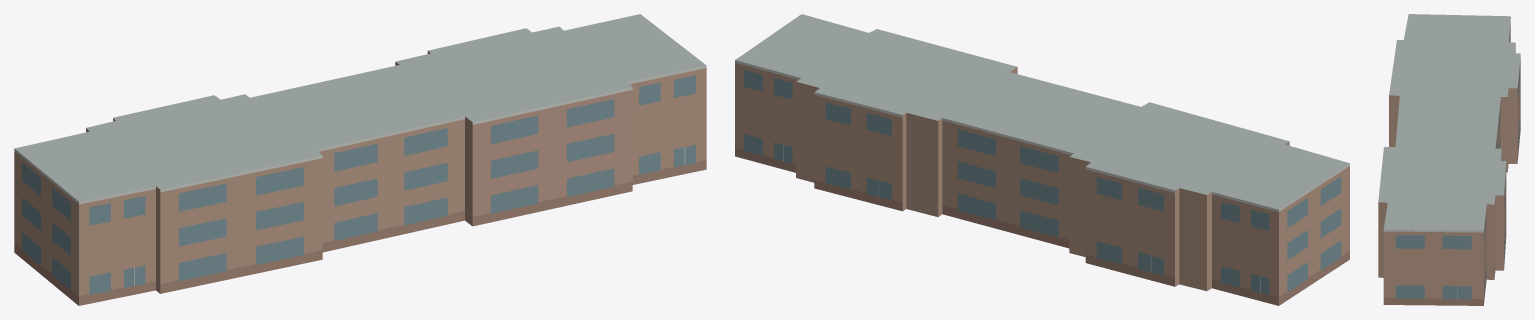
File: survey-upis-32862958.glb
The picture shows the model from 3 angles, left to right: view 1: azimuth 30°, elevation 25°; view 2: azimuth 150°, elevation 25°; view 3: azimuth 270°, elevation 25°; orthographic projection. The views are drawn at different scales.
Visible parts, largest first — view 1: survey-upis-32862958.tmp; view 2: survey-upis-32862958.tmp; view 3: survey-upis-32862958.tmp.
Boxes of the visible parts, left/top/right/bottom form: survey-upis-32862958.tmp: left=14, top=14, right=706, bottom=305; survey-upis-32862958.tmp: left=735, top=14, right=1349, bottom=305; survey-upis-32862958.tmp: left=1378, top=14, right=1520, bottom=305.
Size of the model in its own units: 56.36 by 9.15 by 15.68.
